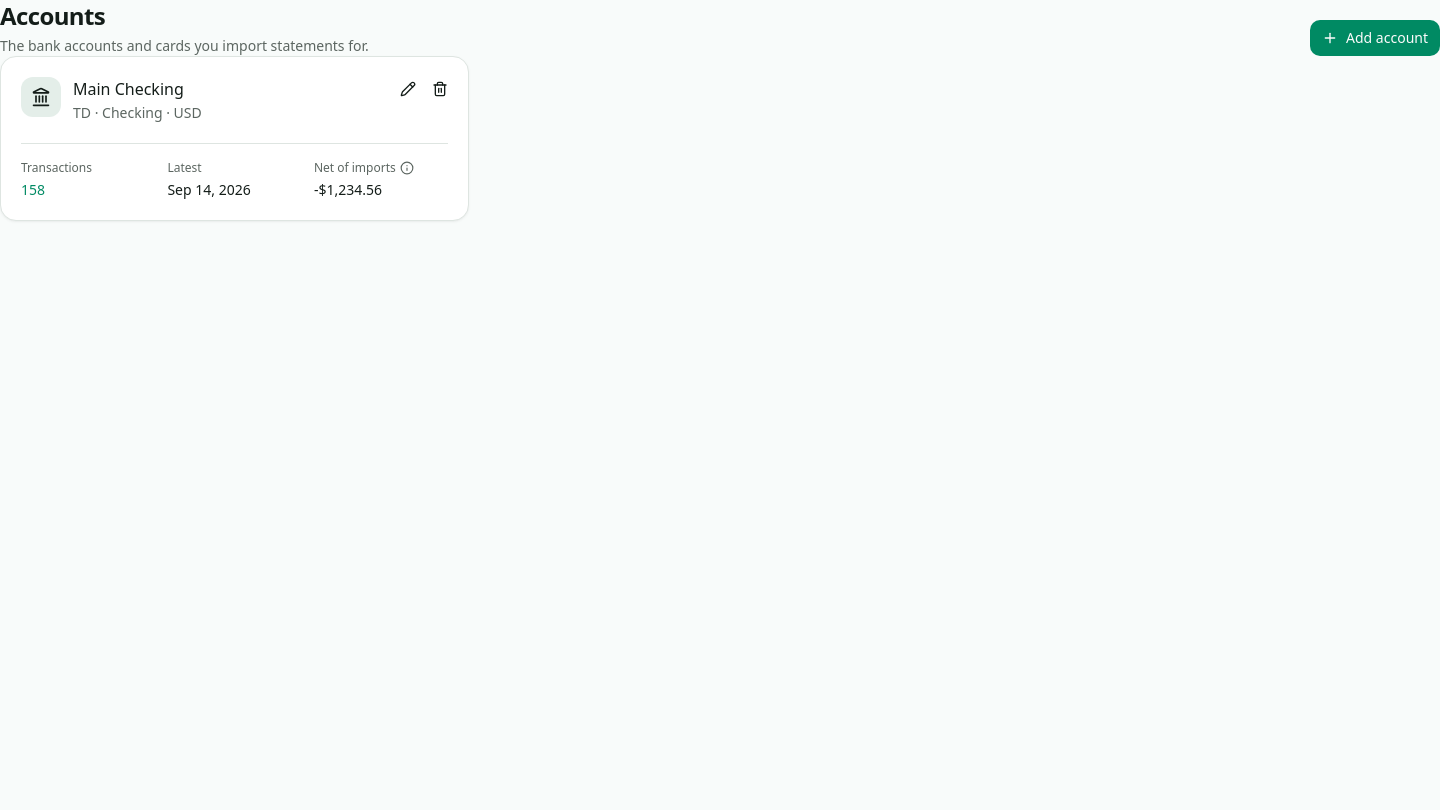
it: AccountsScreen › adds an account from the dialog
The image size is (1440, 810).
Step 1. Click the button "Add account" → (1375, 38), box [1310,20,1439,56]
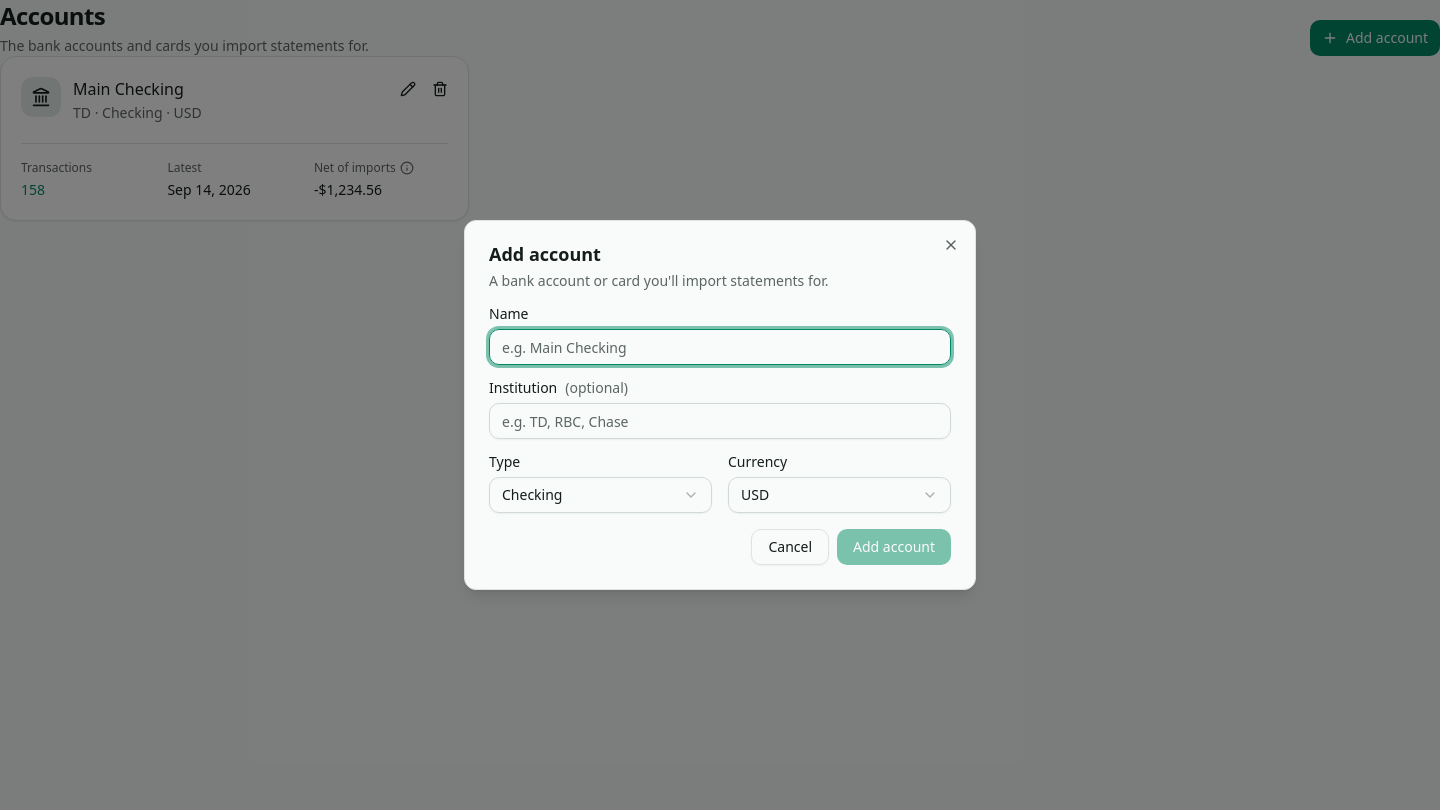
expect the button "Add account" is disabled: met, box [837,529,951,565]
Step 2. Type "  Visa  " into the field labelled "Name" → (720, 347), box [489,329,951,365]
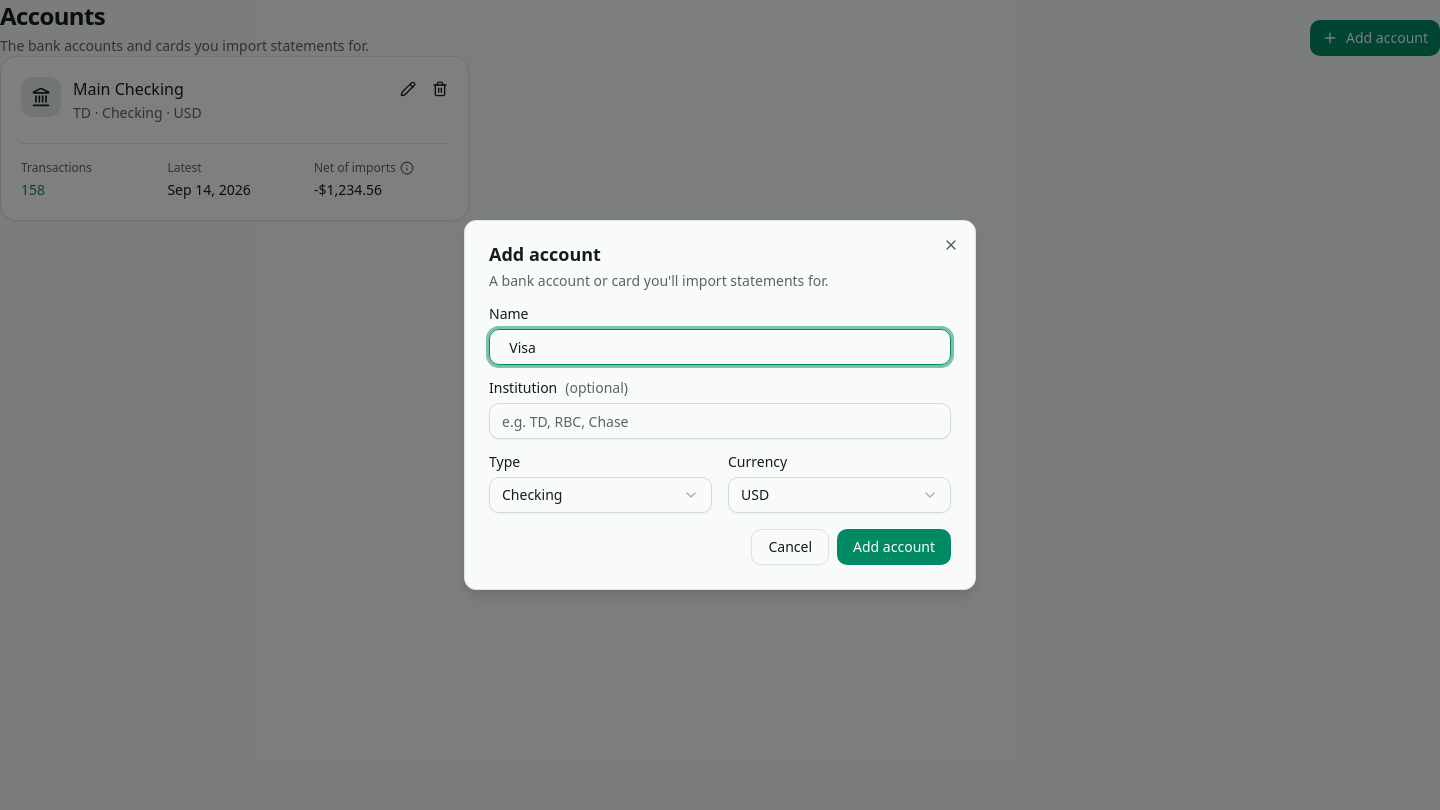
Step 3. Type " Chase " into the field labelled "Institution (optional)" → (720, 421), box [489,403,951,439]
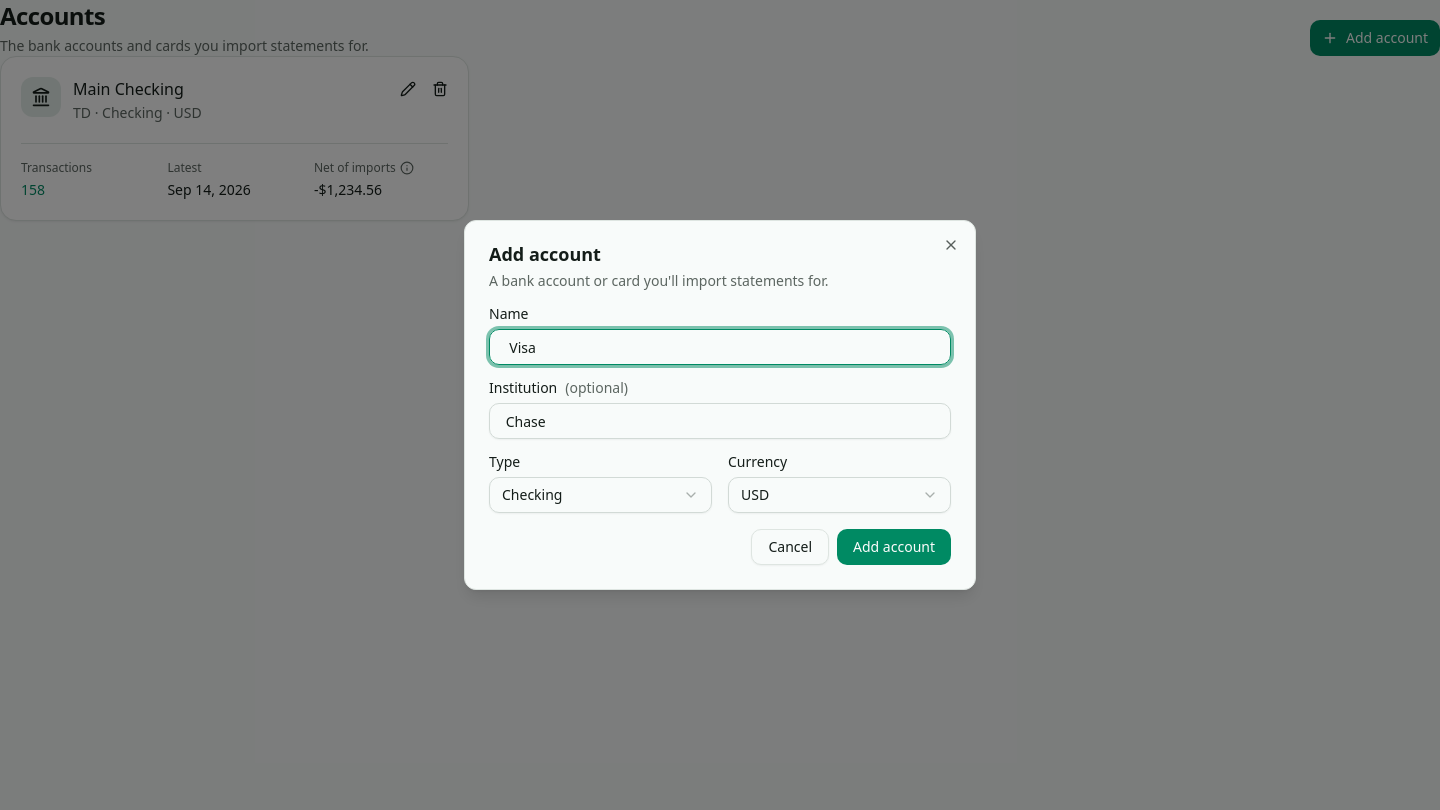
expect the dropdown named "Currency" reads "USD": met, box [728,477,951,513]
Step 4. Click the dropdown named "Type" → (600, 495), box [489,477,712,513]
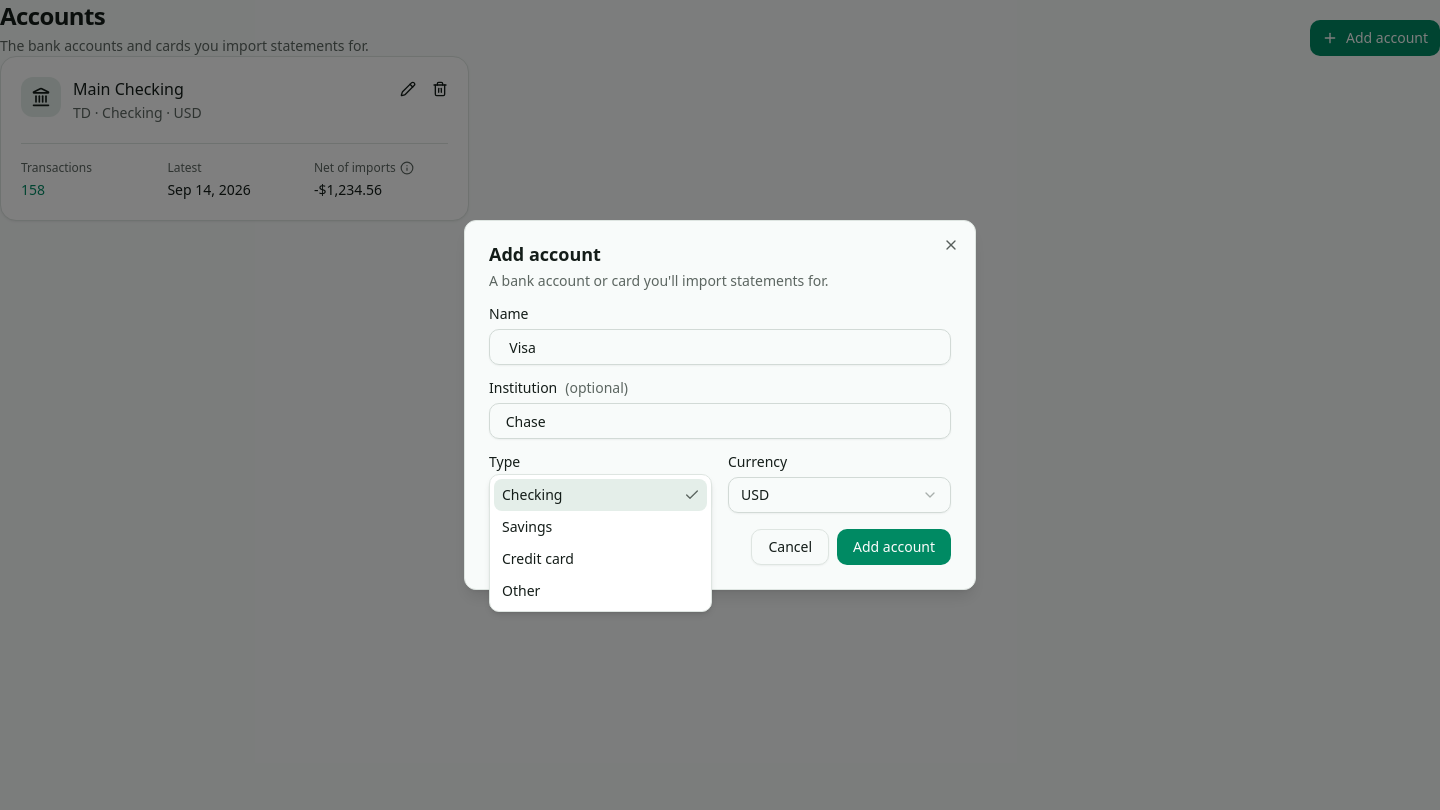
Step 5. Click the option "Credit card" → (538, 558), box [502,549,574,568]
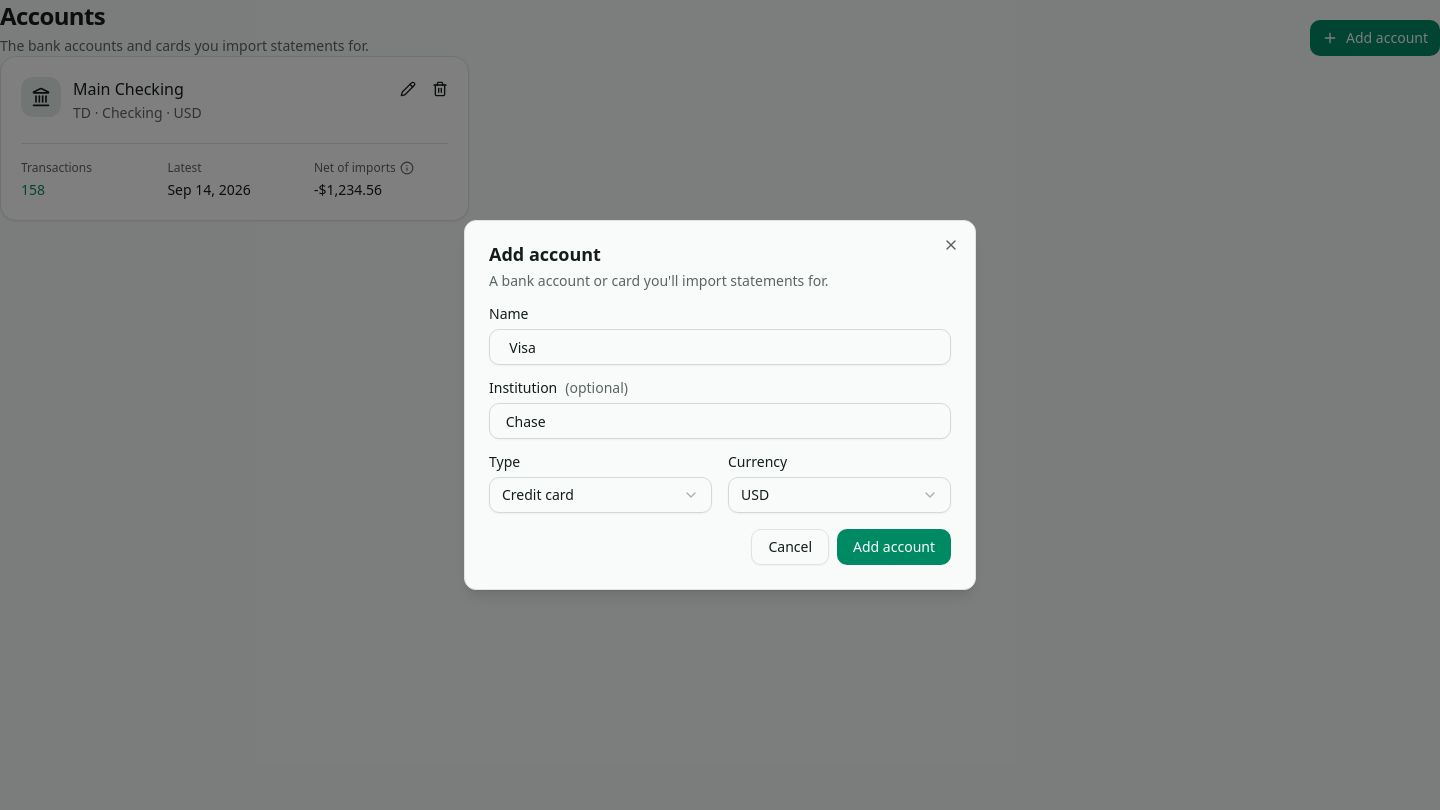
Step 6. Click the button "Add account" → (894, 547), box [837,529,951,565]
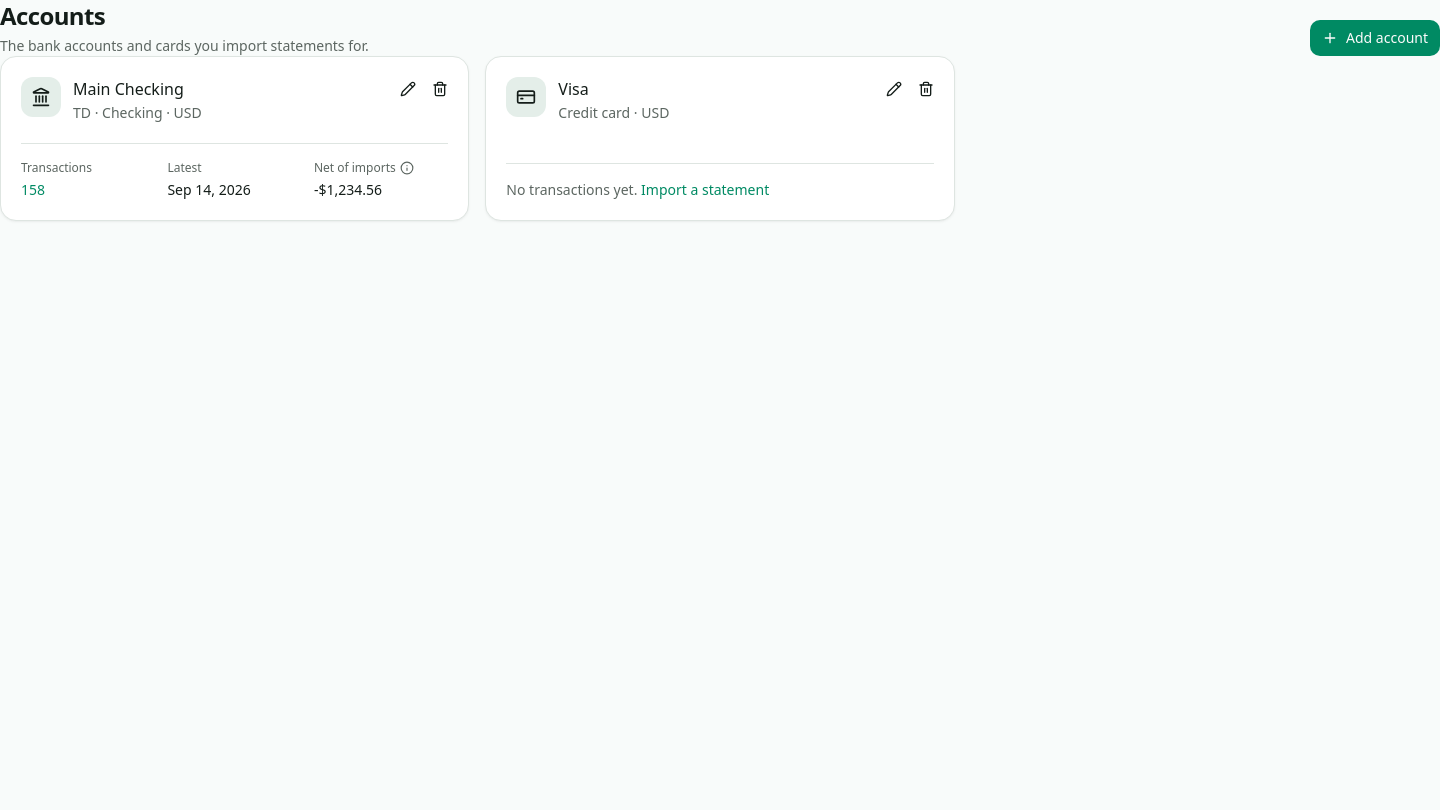
expect the dialog is gone: met
expect the element "Visa" is shown: met, box [485,56,955,221]
